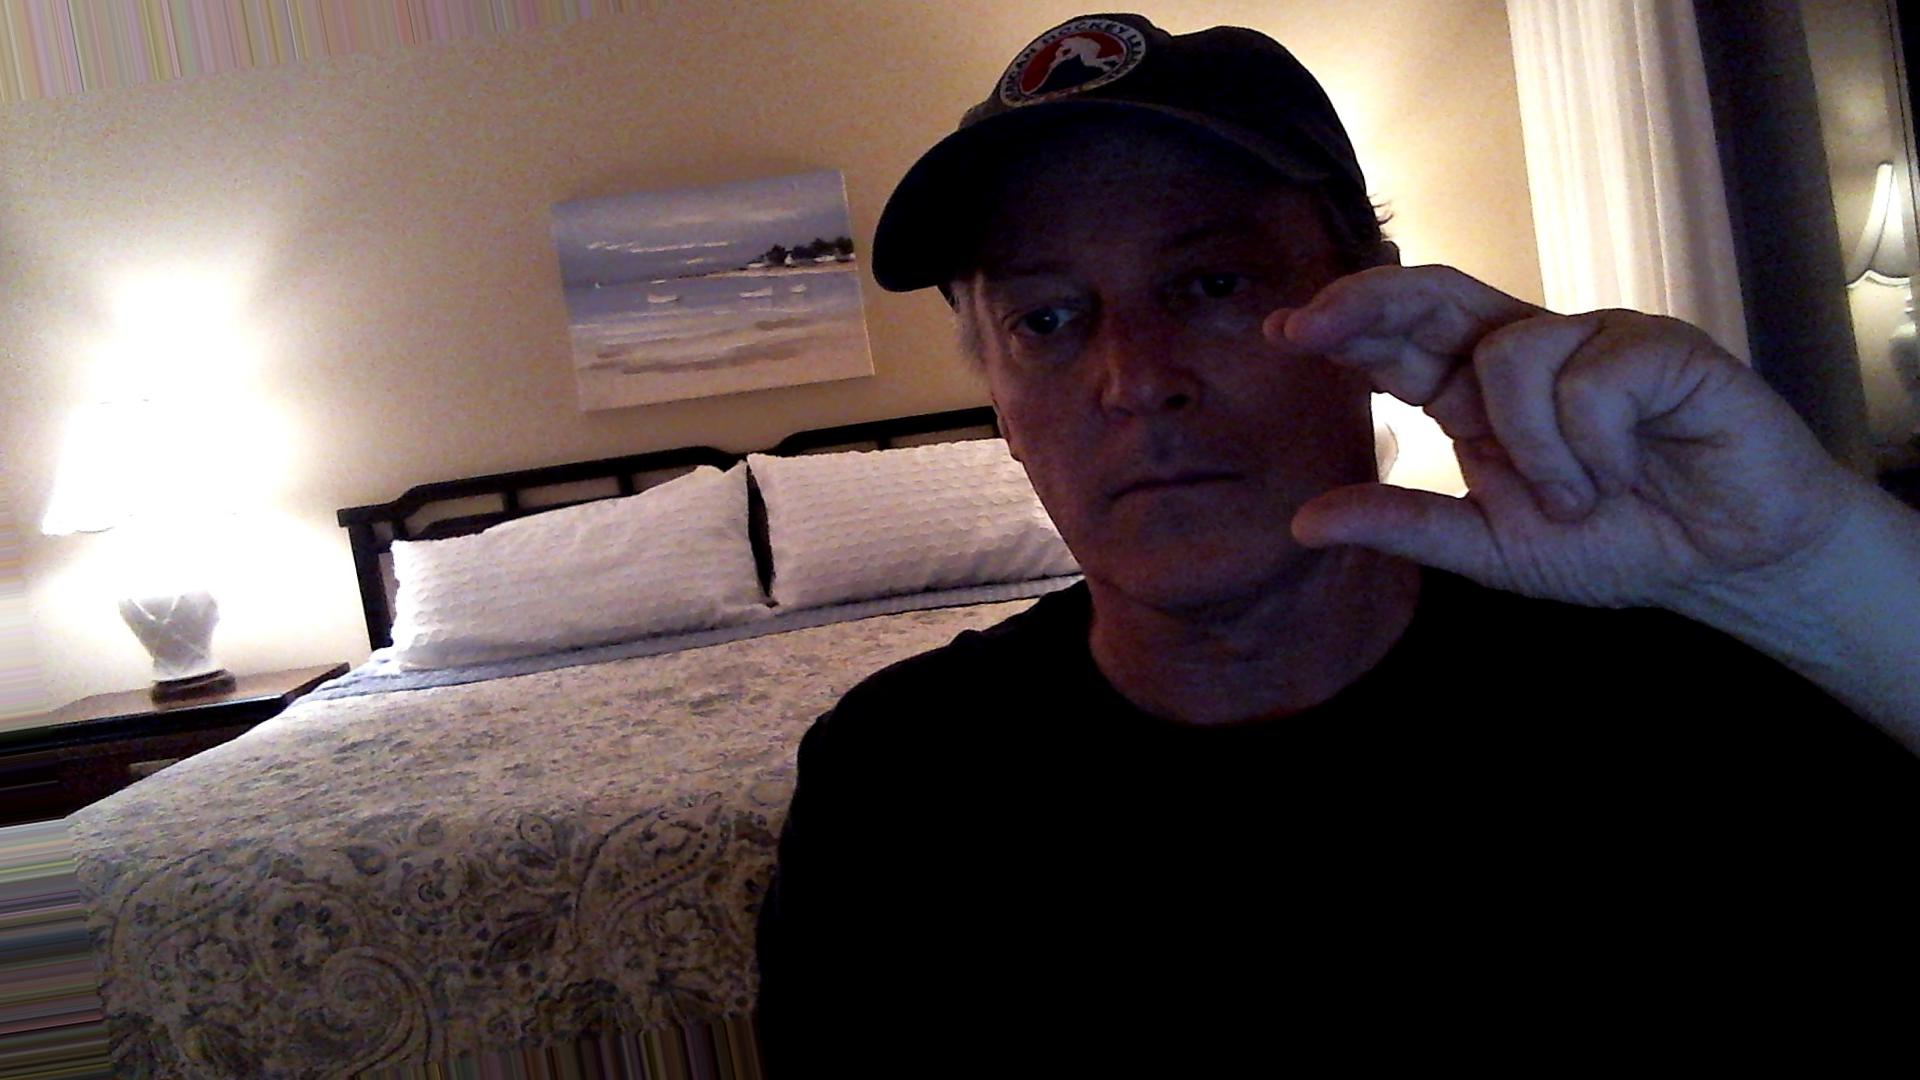No: (1245, 237, 1861, 644)
